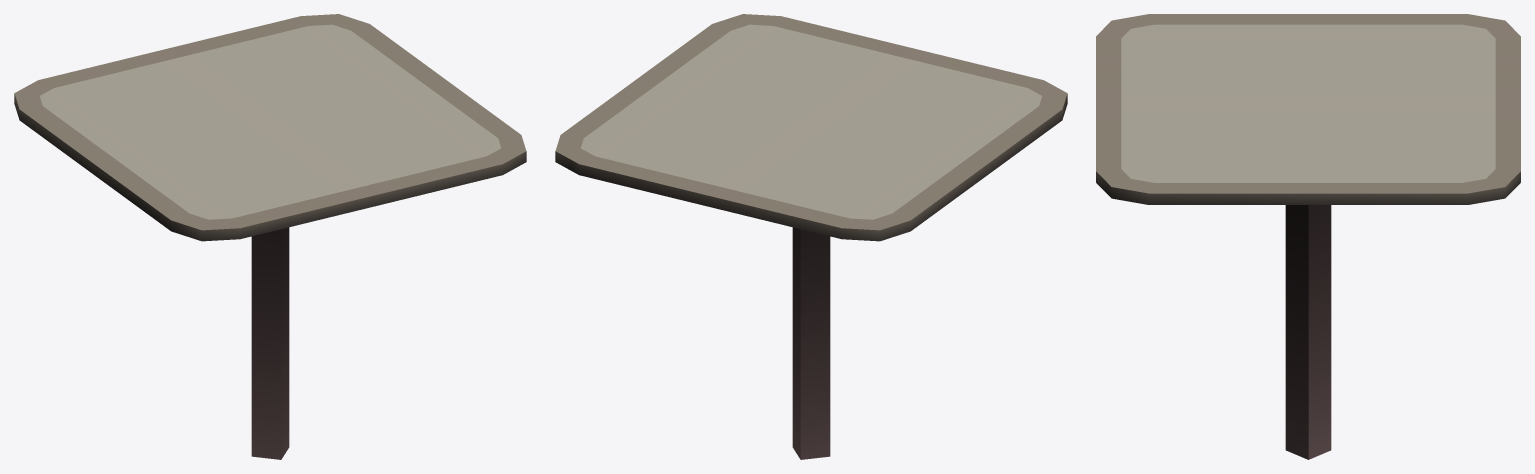
The model's file is Table_2A.fbx.
The picture shows the model from 3 angles, left to right: view 1: azimuth 30°, elevation 25°; view 2: azimuth 150°, elevation 25°; view 3: azimuth 270°, elevation 25°; orthographic projection. The views are drawn at different scales.
Parts seen in each view (by area): view 1: Table_2A; view 2: Table_2A; view 3: Table_2A.
Part boxes in pixels (x1,y1,x2,y2): Table_2A: (14, 14, 526, 459); Table_2A: (555, 14, 1067, 459); Table_2A: (1096, 14, 1520, 459).
Size of the model in its own units: 100 by 90 by 100.
